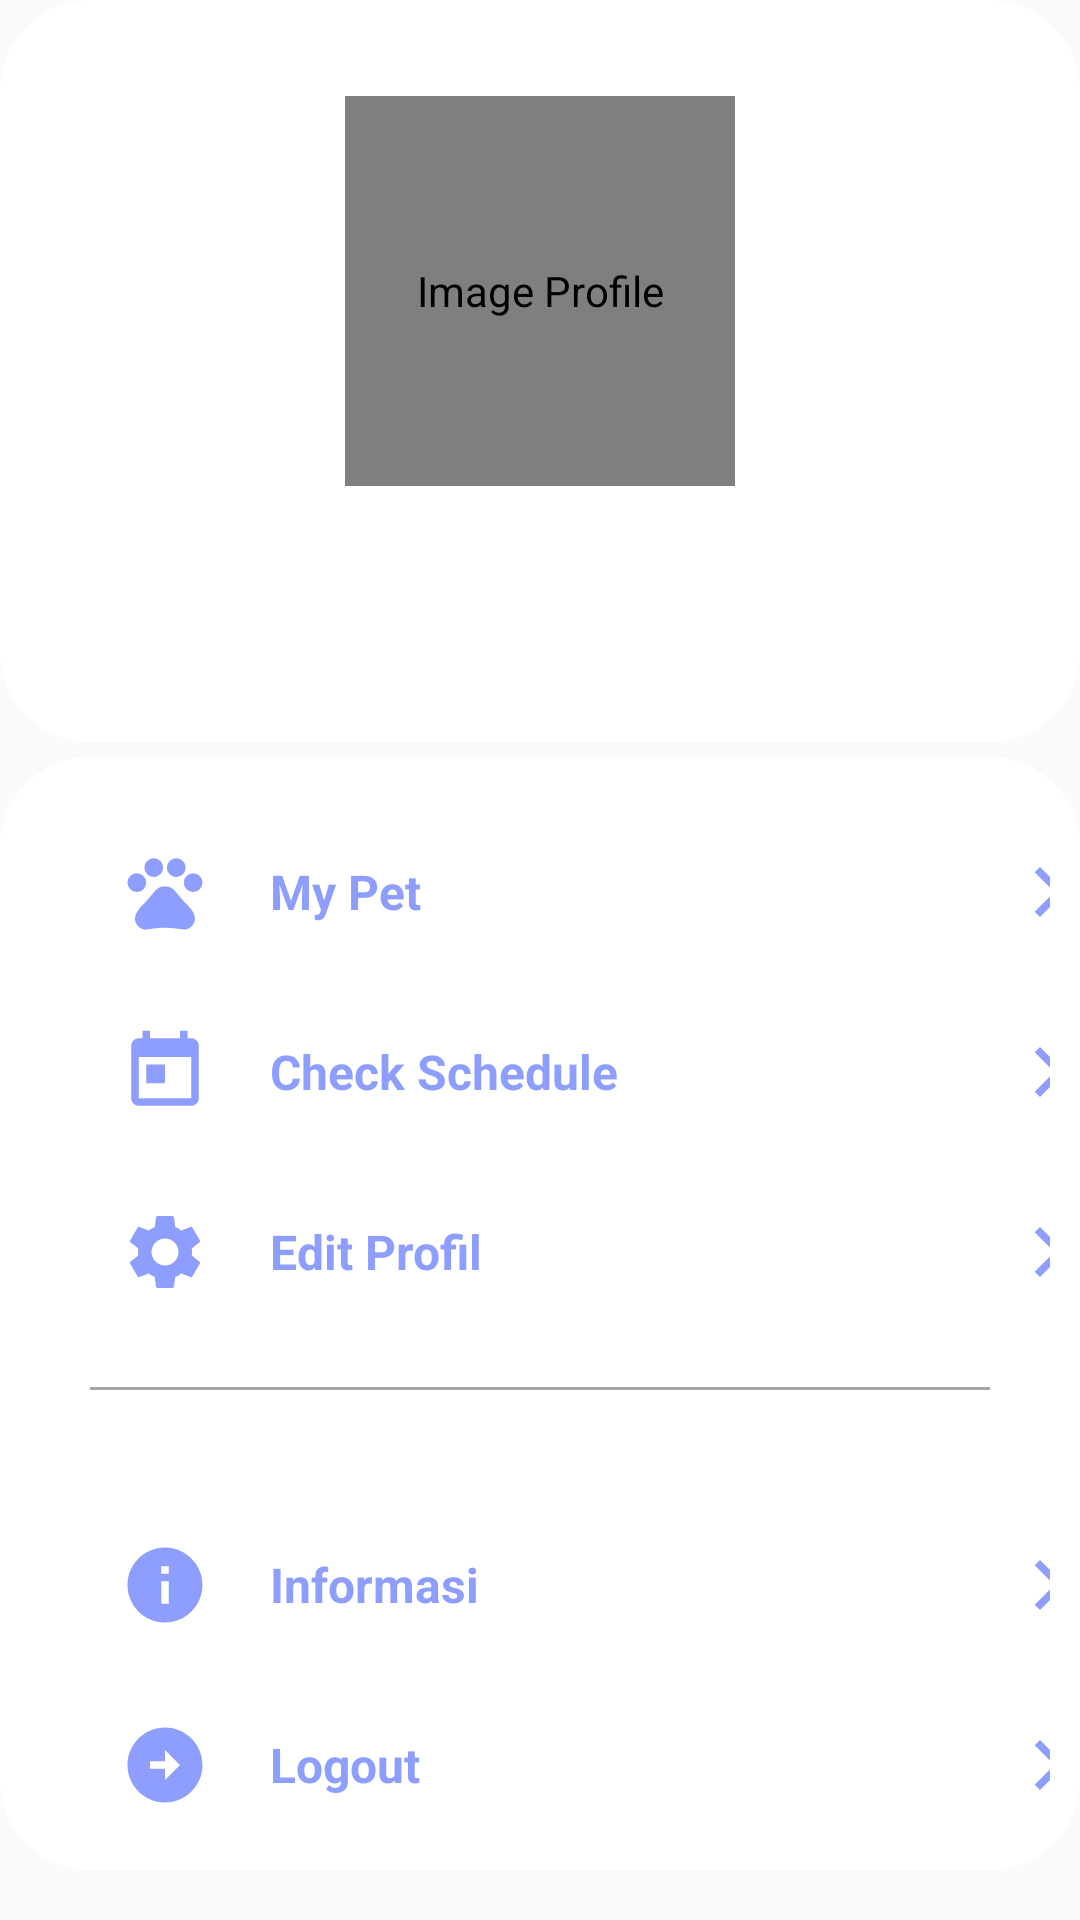

Screen size 1080*1920. Icon name, then its box in pixels as (left=x1, top=y1, right=x2, bottom=y2):
Image Pets: (left=127, top=858, right=203, bottom=930)
settings: (left=130, top=1216, right=200, bottom=1288)
